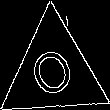O_SE: (25, 38, 82, 105)
